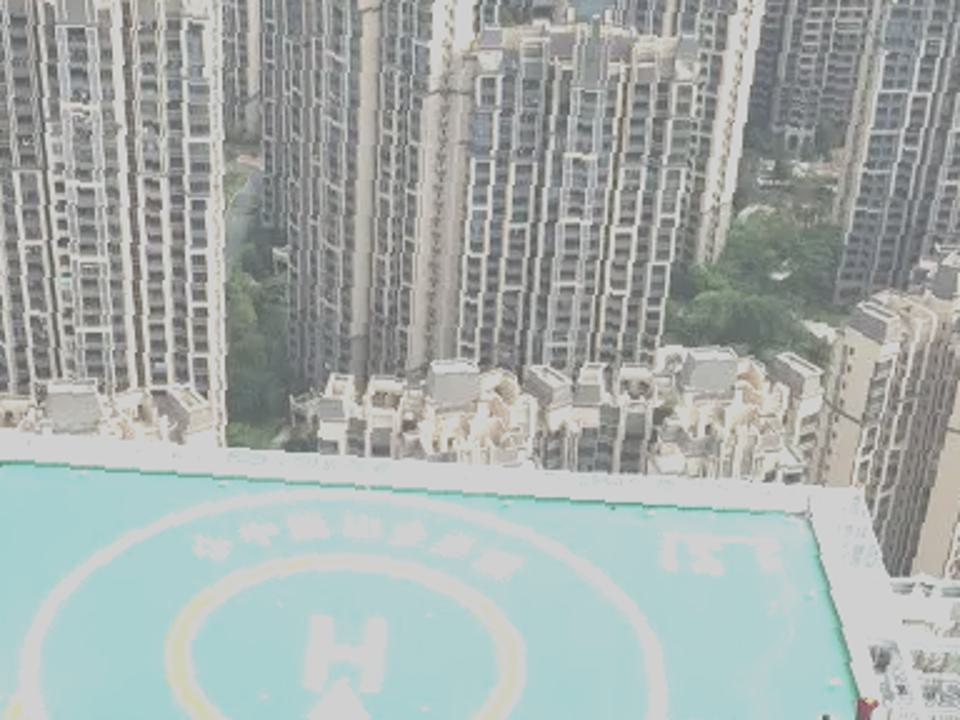Apron: (155, 555, 534, 720)
